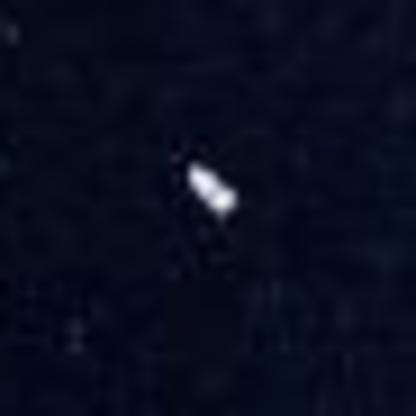ship: (170, 155, 256, 230)
